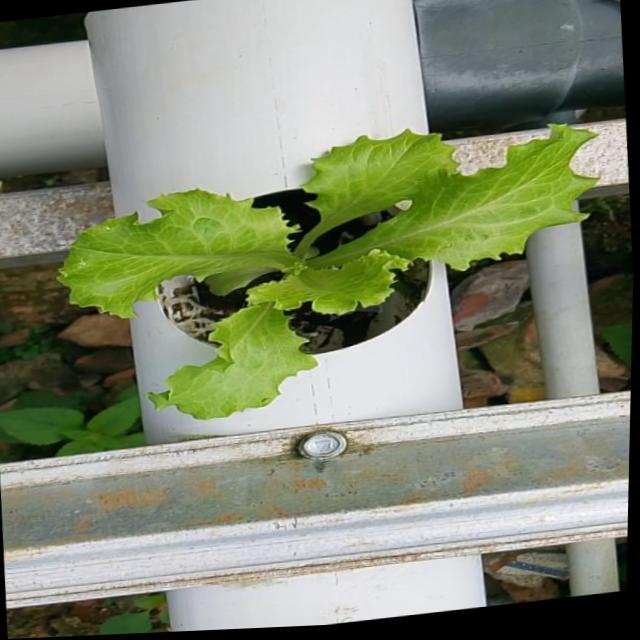Baby: (51, 120, 593, 416)
